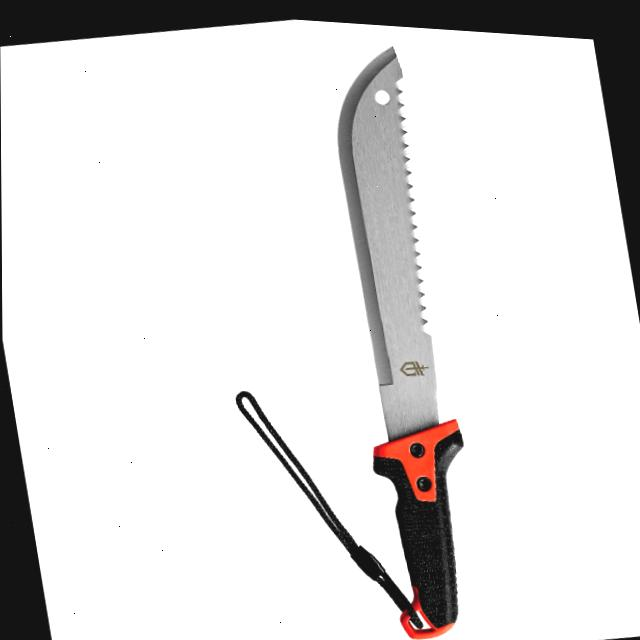long knife: (172, 18, 516, 640)
